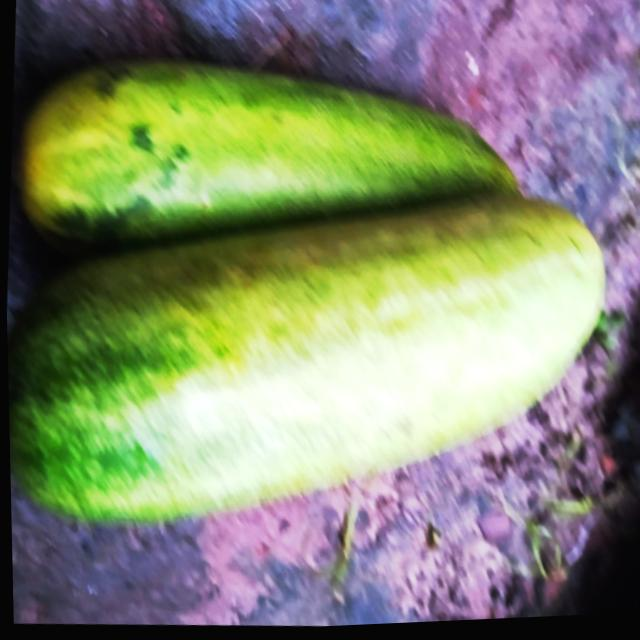Fresh-Cucumber: (3, 169, 616, 559), (9, 43, 532, 276)
